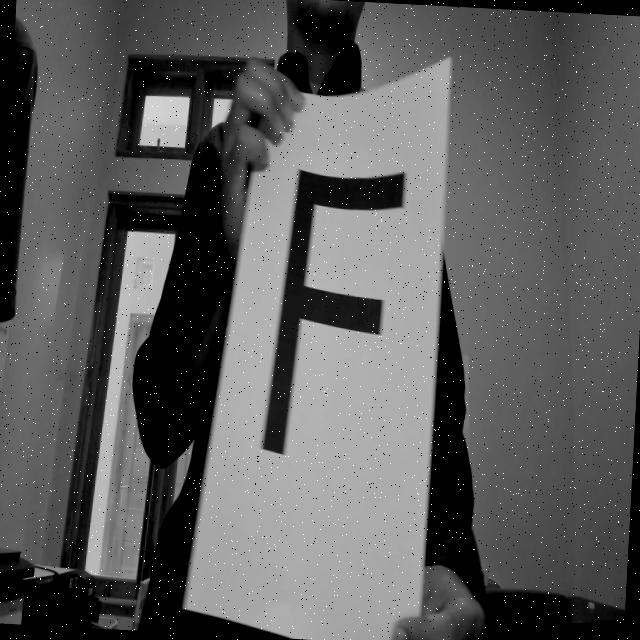f: (254, 138, 412, 491)
